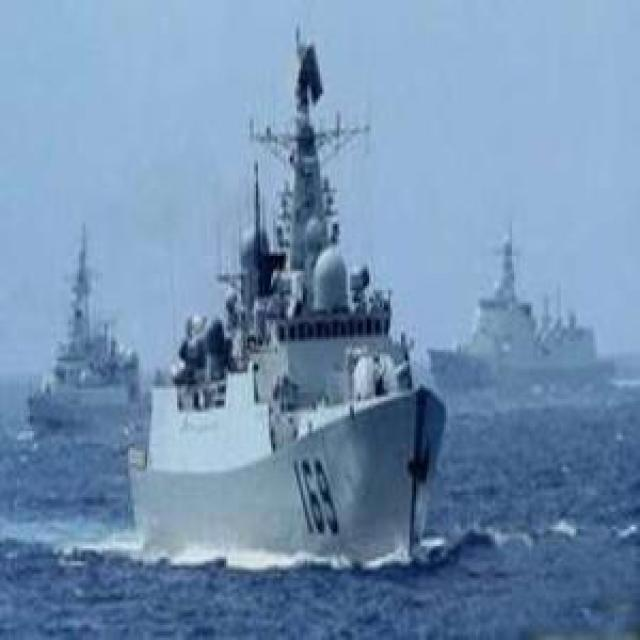navalvessels: (138, 34, 448, 596), (418, 205, 638, 396), (11, 219, 147, 440)
